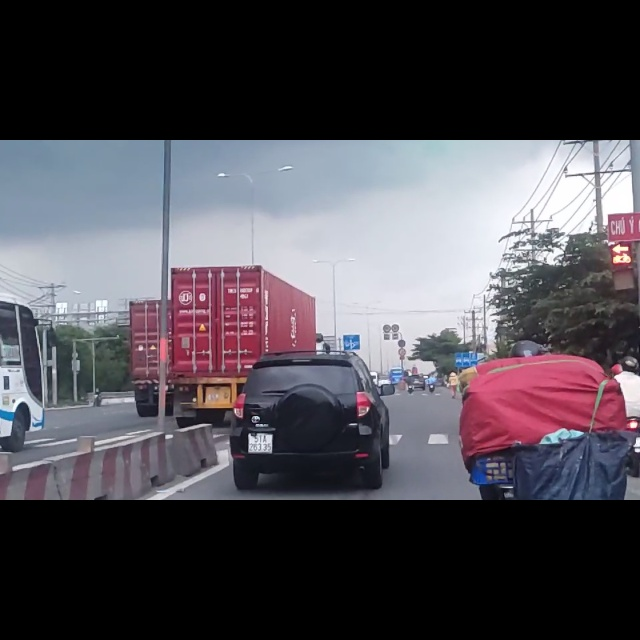bien_cam: (454, 378, 478, 403)
